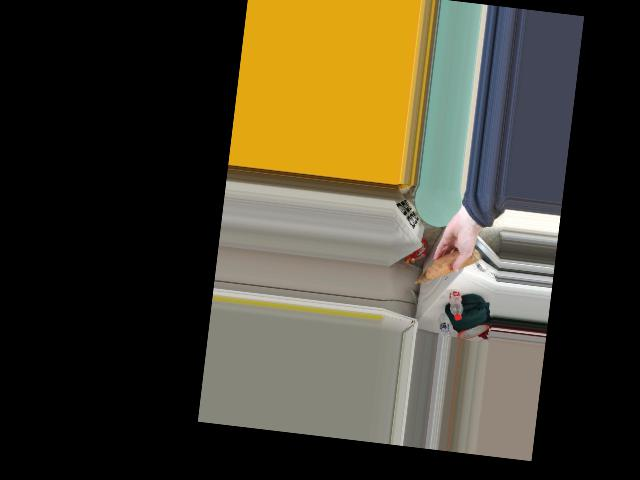sweet_potato: (429, 248, 467, 284)
